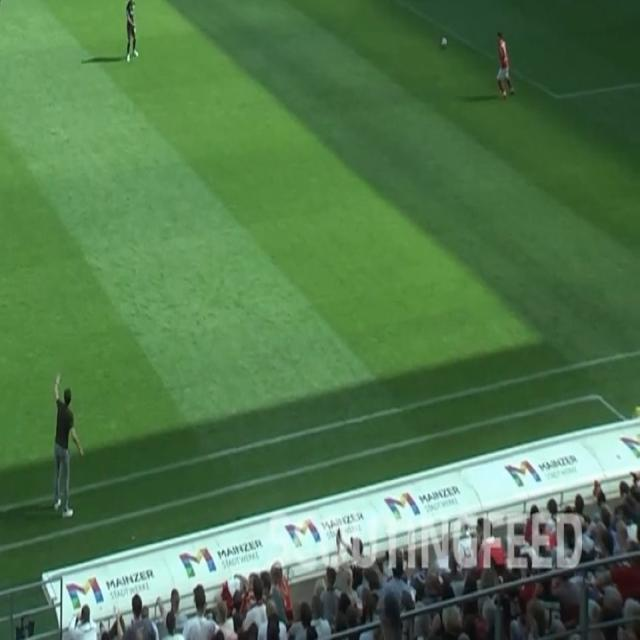ball: (441, 37, 448, 47)
